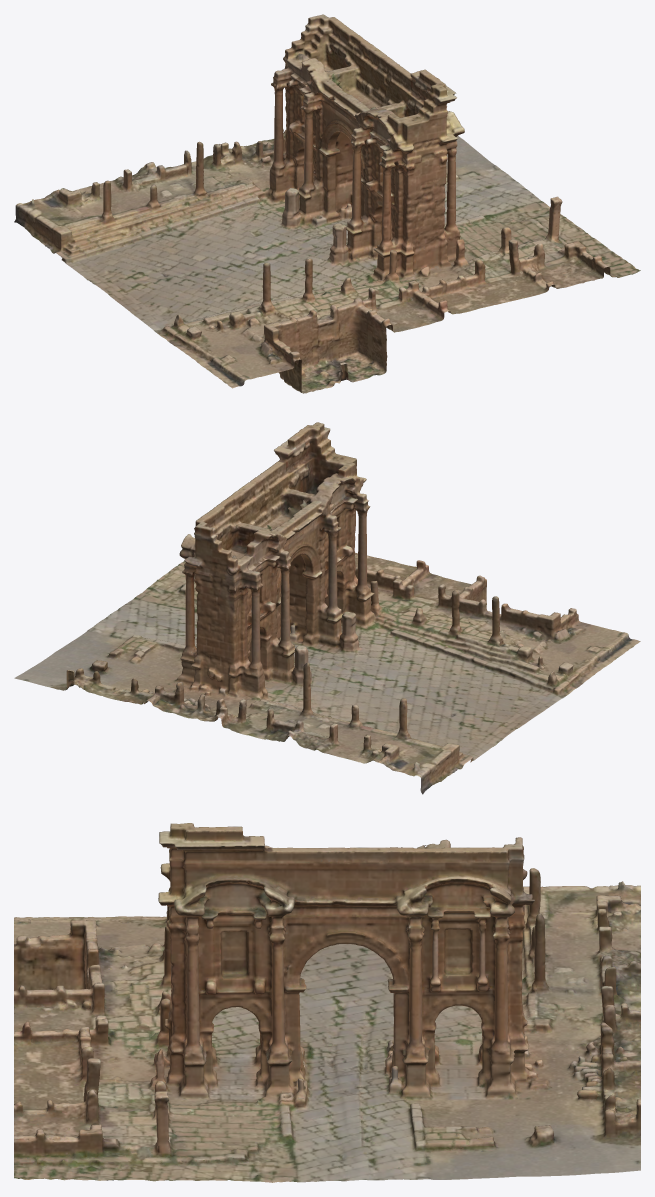
3 renders of one model, top to bottom at view 1: azimuth 30°, elevation 25°; view 2: azimuth 150°, elevation 25°; view 3: azimuth 270°, elevation 25°, orthographic. The views are drawn at different scales.
Parts seen in each view (by area): view 1: DZA_001_M1_ArcOfTrajan; view 2: DZA_001_M1_ArcOfTrajan; view 3: DZA_001_M1_ArcOfTrajan.
Part boxes in pixels (left/top/right/bottom): DZA_001_M1_ArcOfTrajan: left=14, top=14, right=640, bottom=393; DZA_001_M1_ArcOfTrajan: left=14, top=422, right=640, bottom=794; DZA_001_M1_ArcOfTrajan: left=14, top=823, right=640, bottom=1182.
Size of the model in its own units: 29.78 by 15.17 by 27.55.
1 material, 1 textured.
